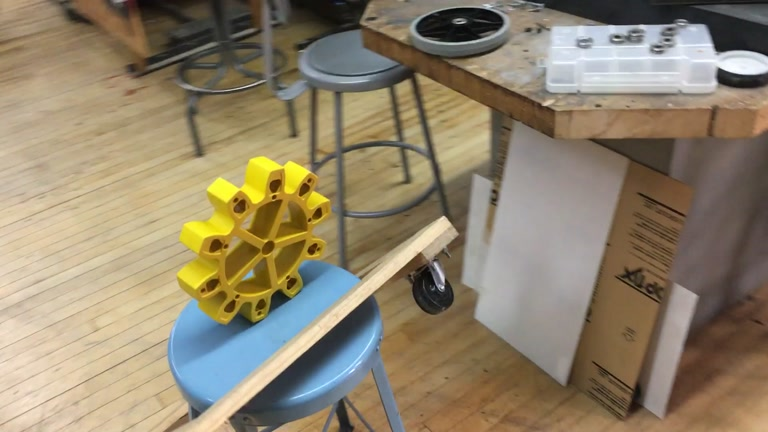gear: (174, 156, 331, 326)
